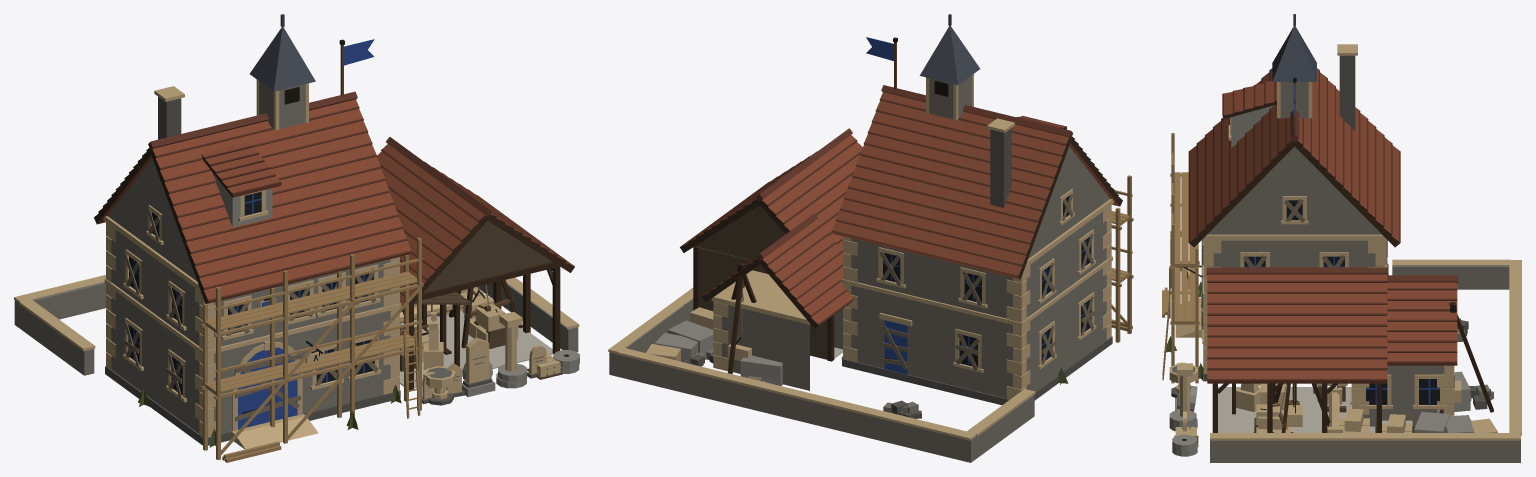
The model's file is steinmetz.glb.
3 renders of one model, left to right at view 1: azimuth 30°, elevation 25°; view 2: azimuth 150°, elevation 25°; view 3: azimuth 270°, elevation 25°, orthographic. The views are drawn at different scales.
Visible parts, largest first — view 1: Haus, Stufe3, Geruest, Stufe1, Stufe2, Leerstand, Fahne; view 2: Haus, Stufe3, Stufe1, Stufe2, Leerstand, Geruest, Fahne; view 3: Stufe3, Haus, Stufe1, Stufe2, Geruest, Leerstand.
Boxes of the visible parts, <box> form: Haus: <box>94,86,411,449</box>; Stufe3: <box>250,14,579,405</box>; Geruest: <box>201,237,423,462</box>; Stufe1: <box>14,275,579,404</box>; Stufe2: <box>201,142,522,362</box>; Leerstand: <box>123,210,401,447</box>; Fahne: <box>339,39,374,96</box>; Haus: <box>831,85,1122,405</box>; Stufe3: <box>610,14,980,418</box>; Stufe1: <box>608,287,1035,462</box>; Stufe2: <box>654,116,1066,390</box>; Leerstand: <box>841,193,1095,384</box>; Geruest: <box>1111,175,1133,342</box>; Fahne: <box>866,37,897,89</box>; Stufe3: <box>1169,14,1520,462</box>; Haus: <box>1175,44,1400,381</box>; Stufe1: <box>1169,259,1521,462</box>; Stufe2: <box>1222,81,1493,432</box>; Geruest: <box>1162,133,1199,383</box>; Leerstand: <box>1164,198,1388,380</box>.
Size of the model in its own units: 16 by 14.06 by 13.62.
